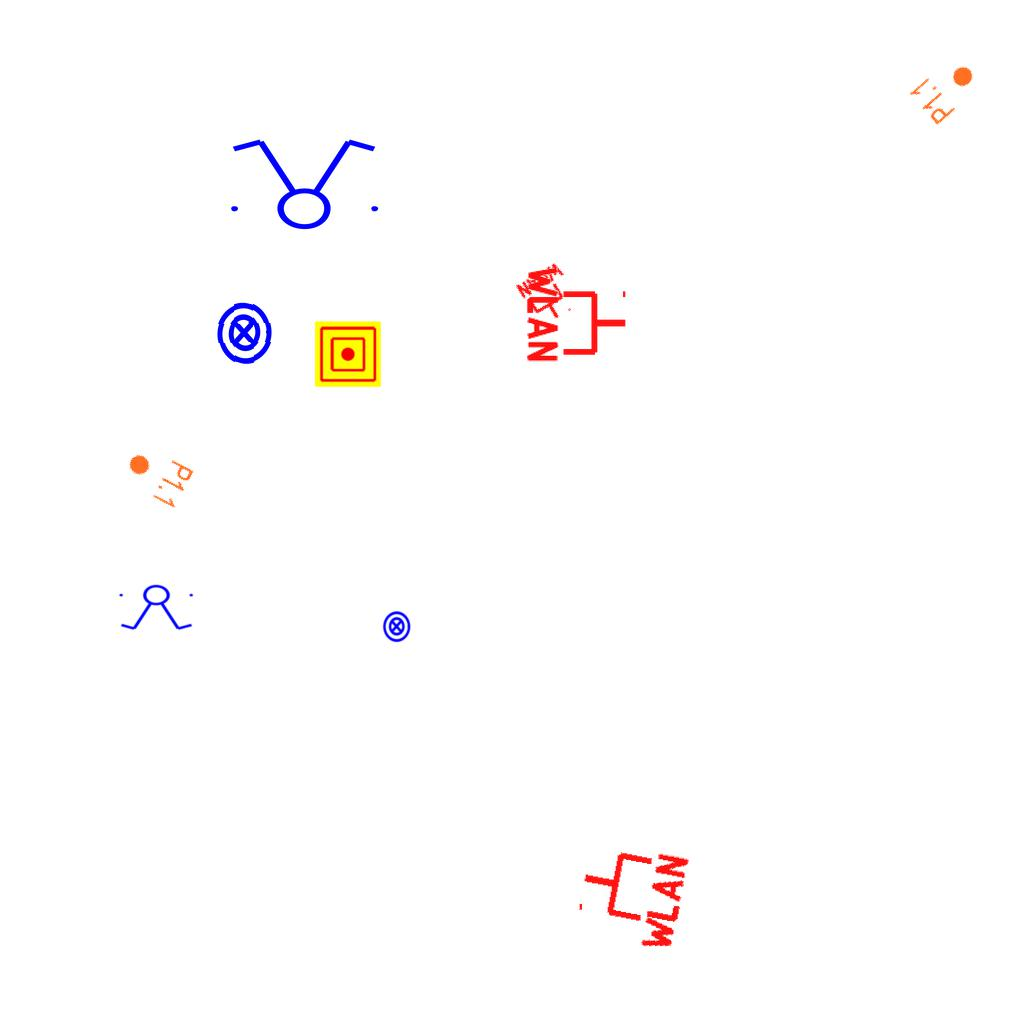Downlight_LED_Einbauleuchten_Flur: (906, 50, 986, 128), (117, 440, 197, 512)
NAM-Nichtautomatischer_Melder: (315, 321, 381, 387)
Serienschalter: (219, 135, 387, 231), (115, 584, 199, 632)
Taster_beleuchtet: (209, 298, 279, 368), (380, 610, 413, 643)
WLAN: (569, 834, 692, 958), (525, 262, 630, 366), (513, 259, 585, 331)
